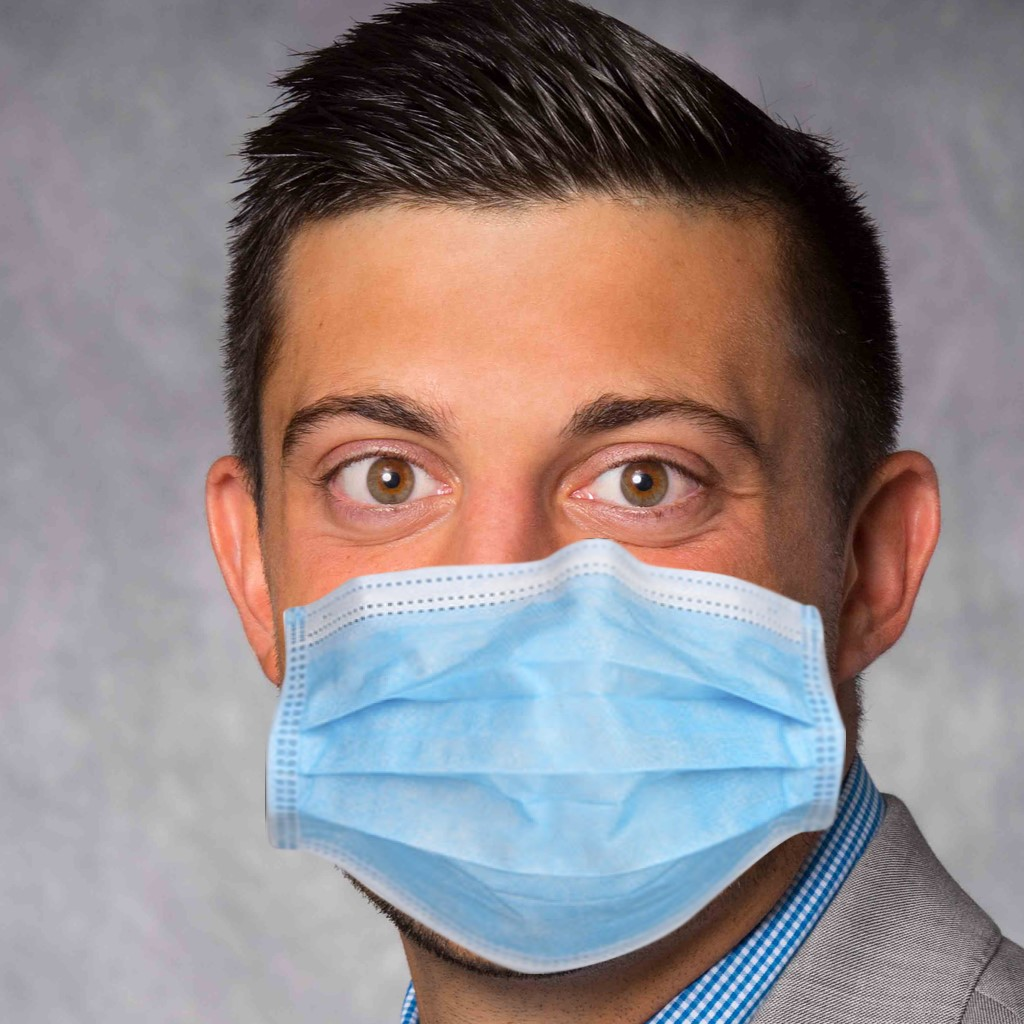con_mascara: (187, 131, 919, 960)
